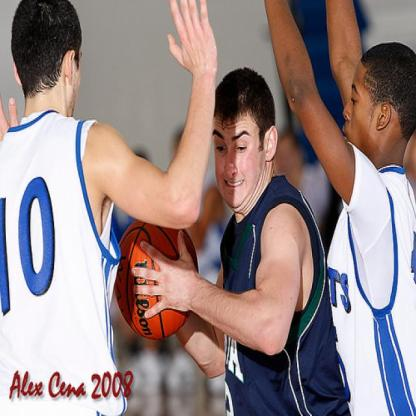basketball: (115, 218, 199, 341)
